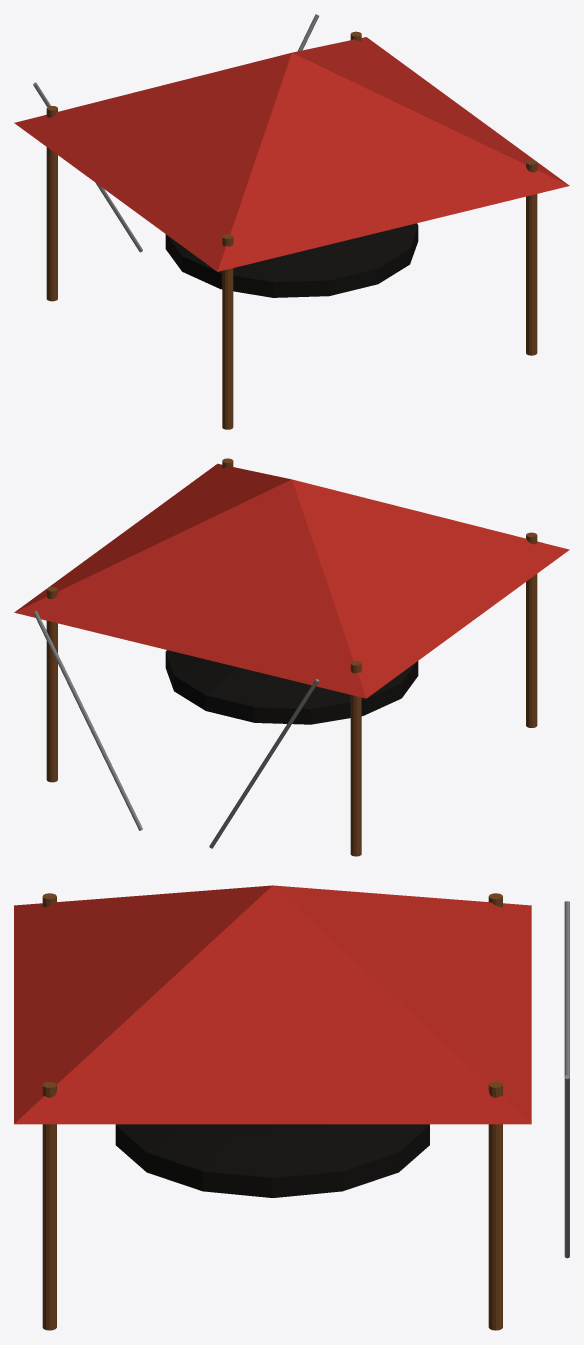
The model's file is big_four_sided_pointed_tent_open.obj.
The picture shows the model from 3 angles, top to bottom: view 1: azimuth 30°, elevation 25°; view 2: azimuth 150°, elevation 25°; view 3: azimuth 270°, elevation 25°; orthographic projection. The views are drawn at different scales.
Visible parts, largest first — view 1: pointed_roof, open_shadow_inside, corner_post_-1.25_1.25, corner_post_1.25_1.25, corner_post_-1.25_-1.25; view 2: pointed_roof, open_shadow_inside, corner_post_-1.25_-1.25, corner_post_1.25_-1.25, corner_post_-1.25_1.25, front_rope_1.45, front_rope_-1.45; view 3: pointed_roof, open_shadow_inside, corner_post_1.25_1.25, corner_post_1.25_-1.25, front_rope_1.45, front_rope_-1.45.
Part boxes in pixels (x1,y1,x2,y2): pointed_roof: [14, 37, 569, 271]; open_shadow_inside: [165, 223, 418, 297]; corner_post_-1.25_1.25: [222, 234, 233, 429]; corner_post_1.25_1.25: [526, 160, 537, 355]; corner_post_-1.25_-1.25: [46, 106, 57, 301]; pointed_roof: [14, 463, 569, 698]; open_shadow_inside: [165, 650, 418, 724]; corner_post_-1.25_-1.25: [350, 661, 361, 856]; corner_post_1.25_-1.25: [46, 587, 57, 782]; corner_post_-1.25_1.25: [526, 532, 537, 727]; front_rope_1.45: [33, 610, 142, 830]; front_rope_-1.45: [209, 679, 319, 848]; pointed_roof: [14, 885, 531, 1124]; open_shadow_inside: [115, 1124, 429, 1197]; corner_post_1.25_1.25: [42, 1082, 56, 1330]; corner_post_1.25_-1.25: [488, 1082, 502, 1330]; front_rope_1.45: [564, 1075, 569, 1258]; front_rope_-1.45: [564, 901, 569, 1076].
Size of the model in its own units: 2.9 by 2.17 by 3.12.
